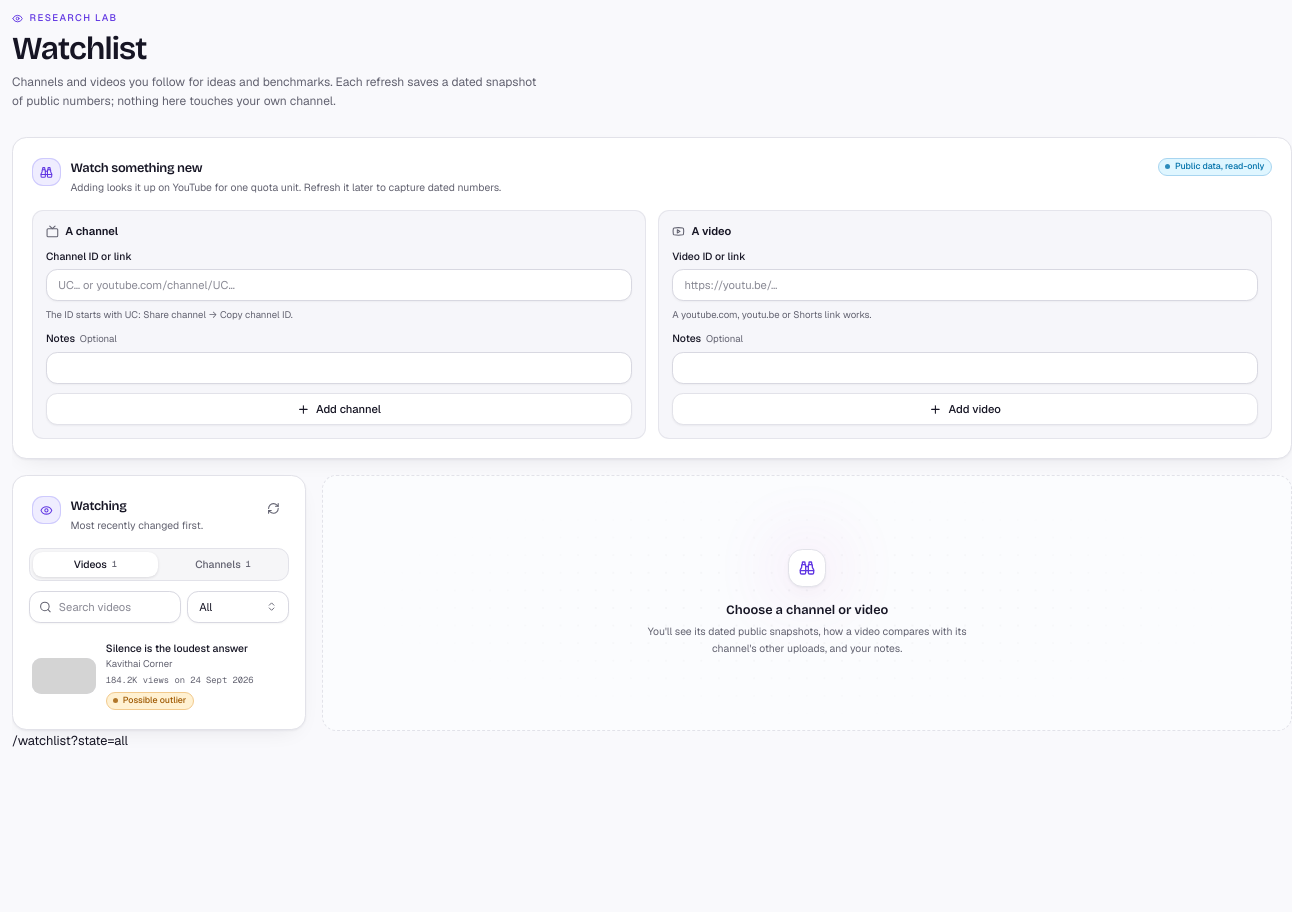
Test: WatchlistPage › keeps every typed character and puts the settled search in the URL
Type "silence says" into the search field named "Search watched videos". click: (105, 607)
box: [29,591,181,623]
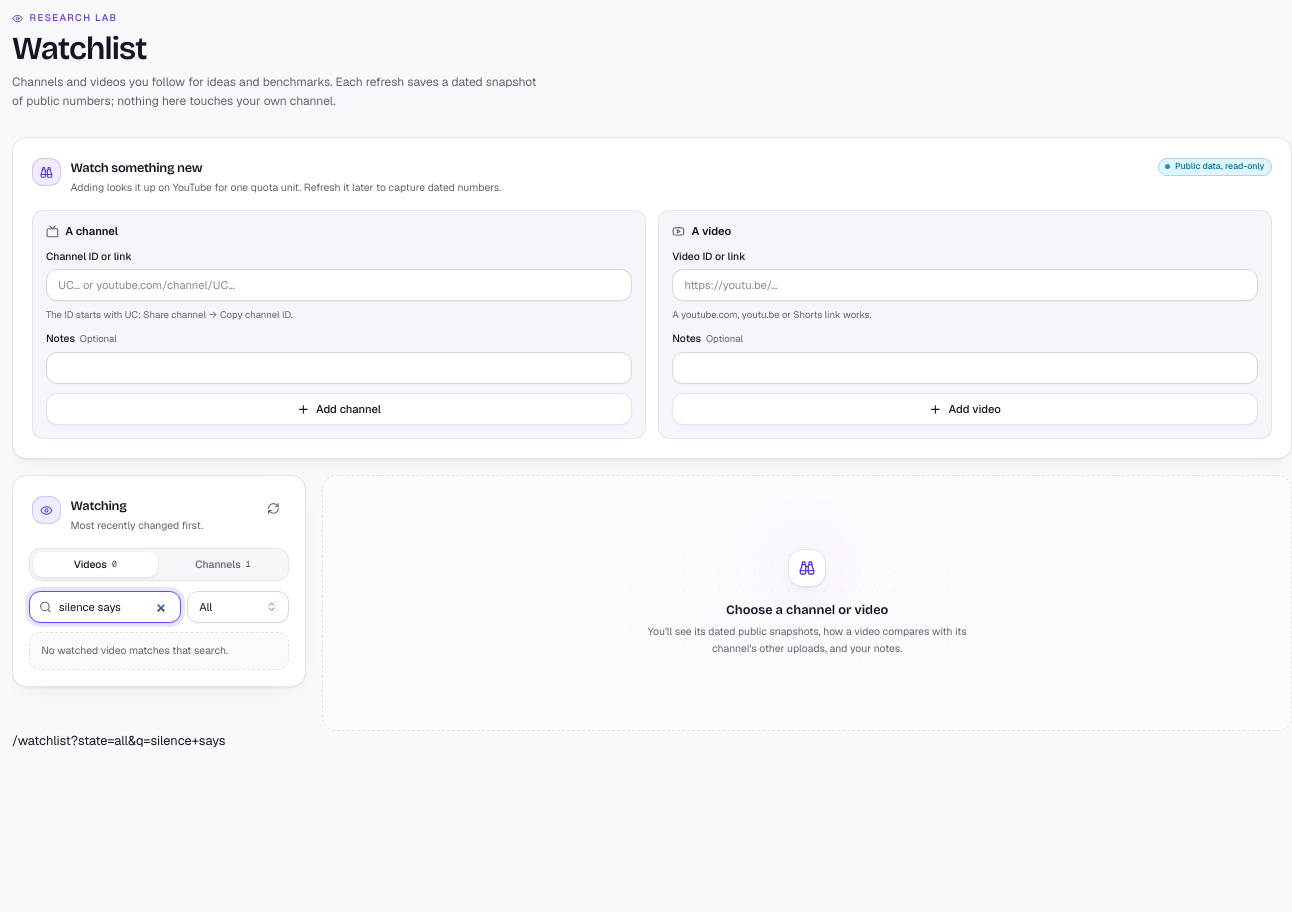
expect the text with test id "location" reads "/watchlist?state=all&q=silence+says": met, box [12,732,226,749]
